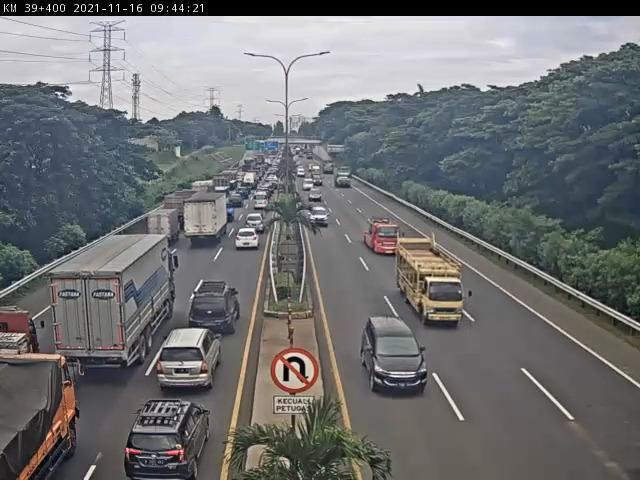car: (123, 399, 212, 480), (365, 315, 430, 396), (158, 327, 222, 392), (193, 277, 238, 334), (233, 229, 266, 254), (239, 216, 267, 230), (312, 206, 331, 224), (253, 196, 270, 212), (228, 194, 242, 212), (310, 189, 325, 201), (303, 179, 315, 192), (314, 173, 324, 187), (298, 166, 306, 177), (312, 165, 319, 170)
truck: (49, 235, 182, 376), (1, 355, 77, 480), (394, 233, 473, 330), (182, 190, 229, 245), (366, 218, 402, 258), (142, 211, 178, 245), (336, 167, 355, 191), (323, 163, 336, 176)
